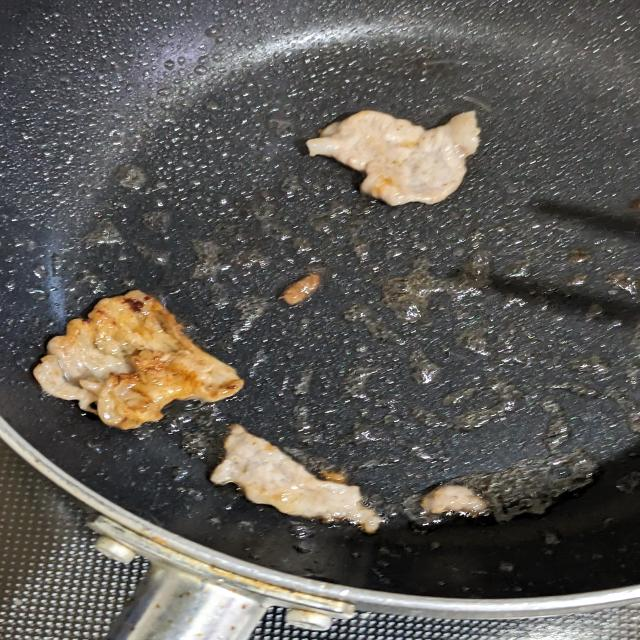OK cooked pork,: (18, 279, 254, 453), (201, 412, 400, 532), (300, 107, 491, 217)
